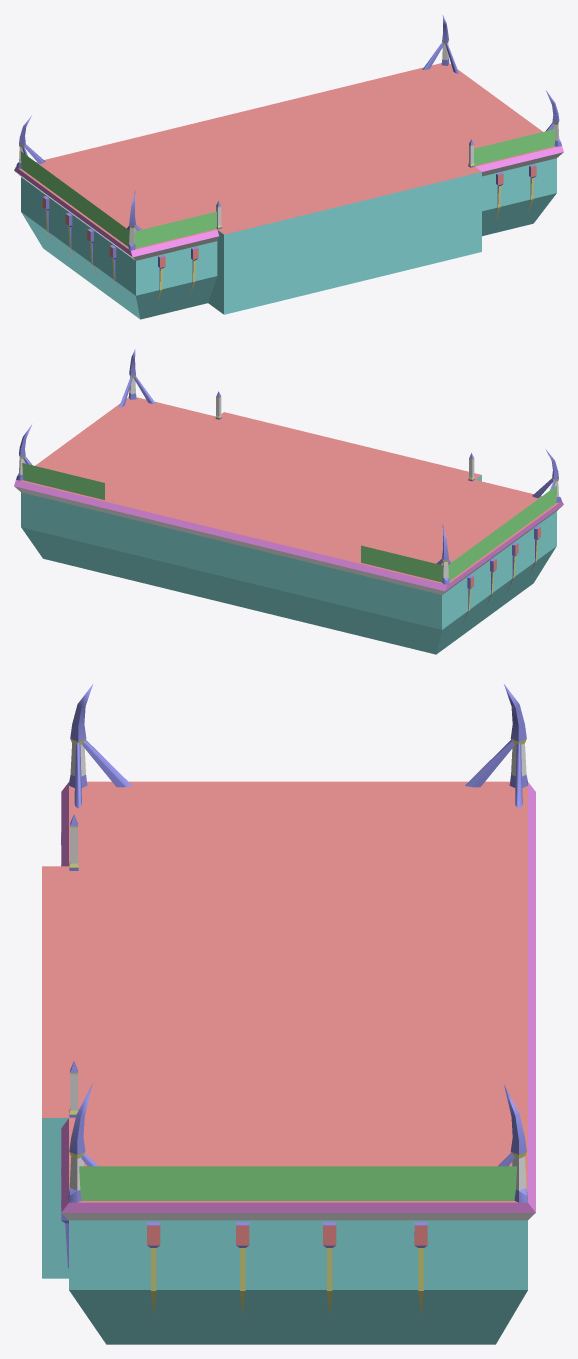
File: O_DE_CH_Btm.gltf
3 renders of one model, top to bottom at view 1: azimuth 30°, elevation 25°; view 2: azimuth 150°, elevation 25°; view 3: azimuth 270°, elevation 25°, orthographic. The views are drawn at different scales.
Parts seen in each view (by area): view 1: O_DE_CH_Btm; view 2: O_DE_CH_Btm; view 3: O_DE_CH_Btm.
Boxes of the visible parts, x1,y1,x2,y2 form: O_DE_CH_Btm: [14, 15, 563, 319]; O_DE_CH_Btm: [14, 349, 563, 654]; O_DE_CH_Btm: [42, 684, 535, 1344].
Bounding box in the file's own units: 20.01 × 5.97 × 9.92.
